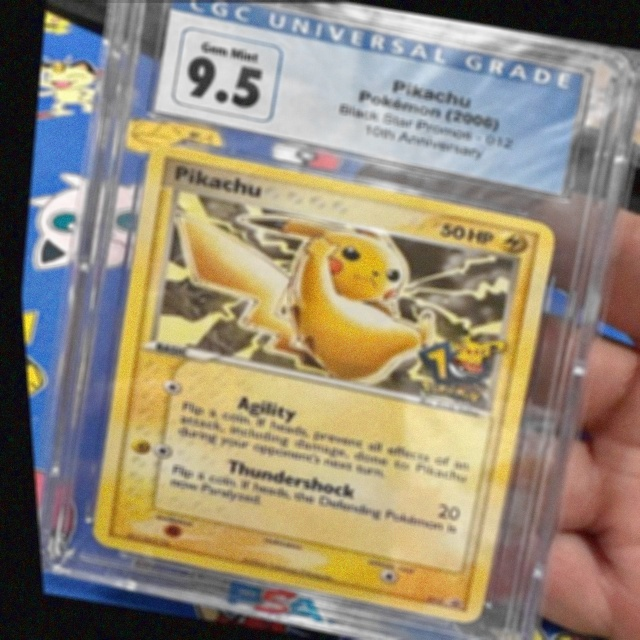card: (81, 143, 555, 625)
